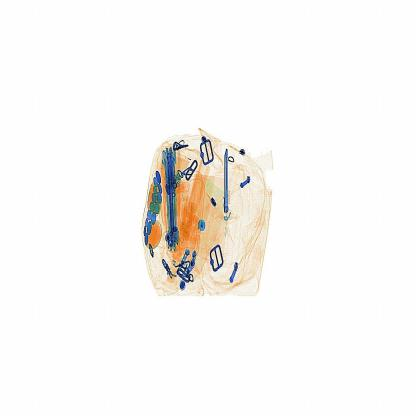pliers: (212, 142, 242, 222)
